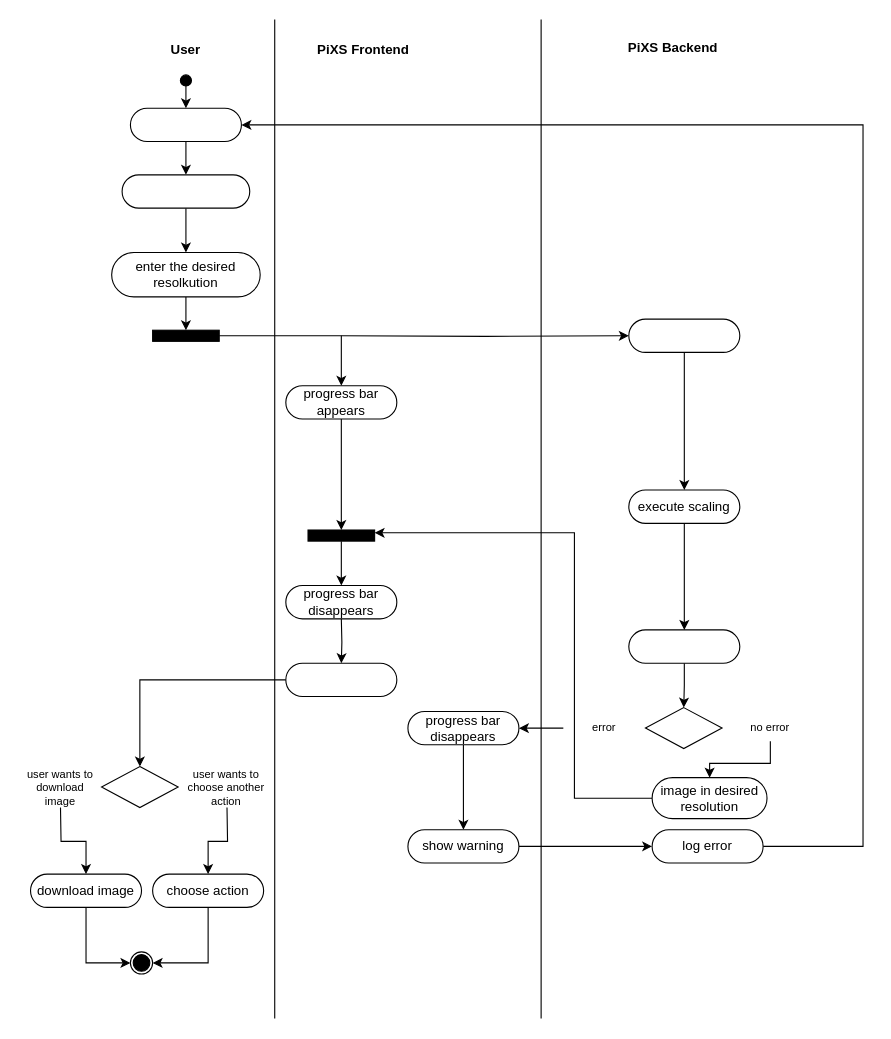
The diagram is 891 pixels wide and 1039 high, and some of its shapes have lost their labels. Here are the shapes that lost their labels. From the top down, the box of each, then its label:
(129, 107, 241, 142): upload image
(121, 174, 250, 208): choose resize image
(628, 318, 740, 352): check parameters
(628, 629, 740, 663): check for errors
(285, 662, 397, 697): show download button
